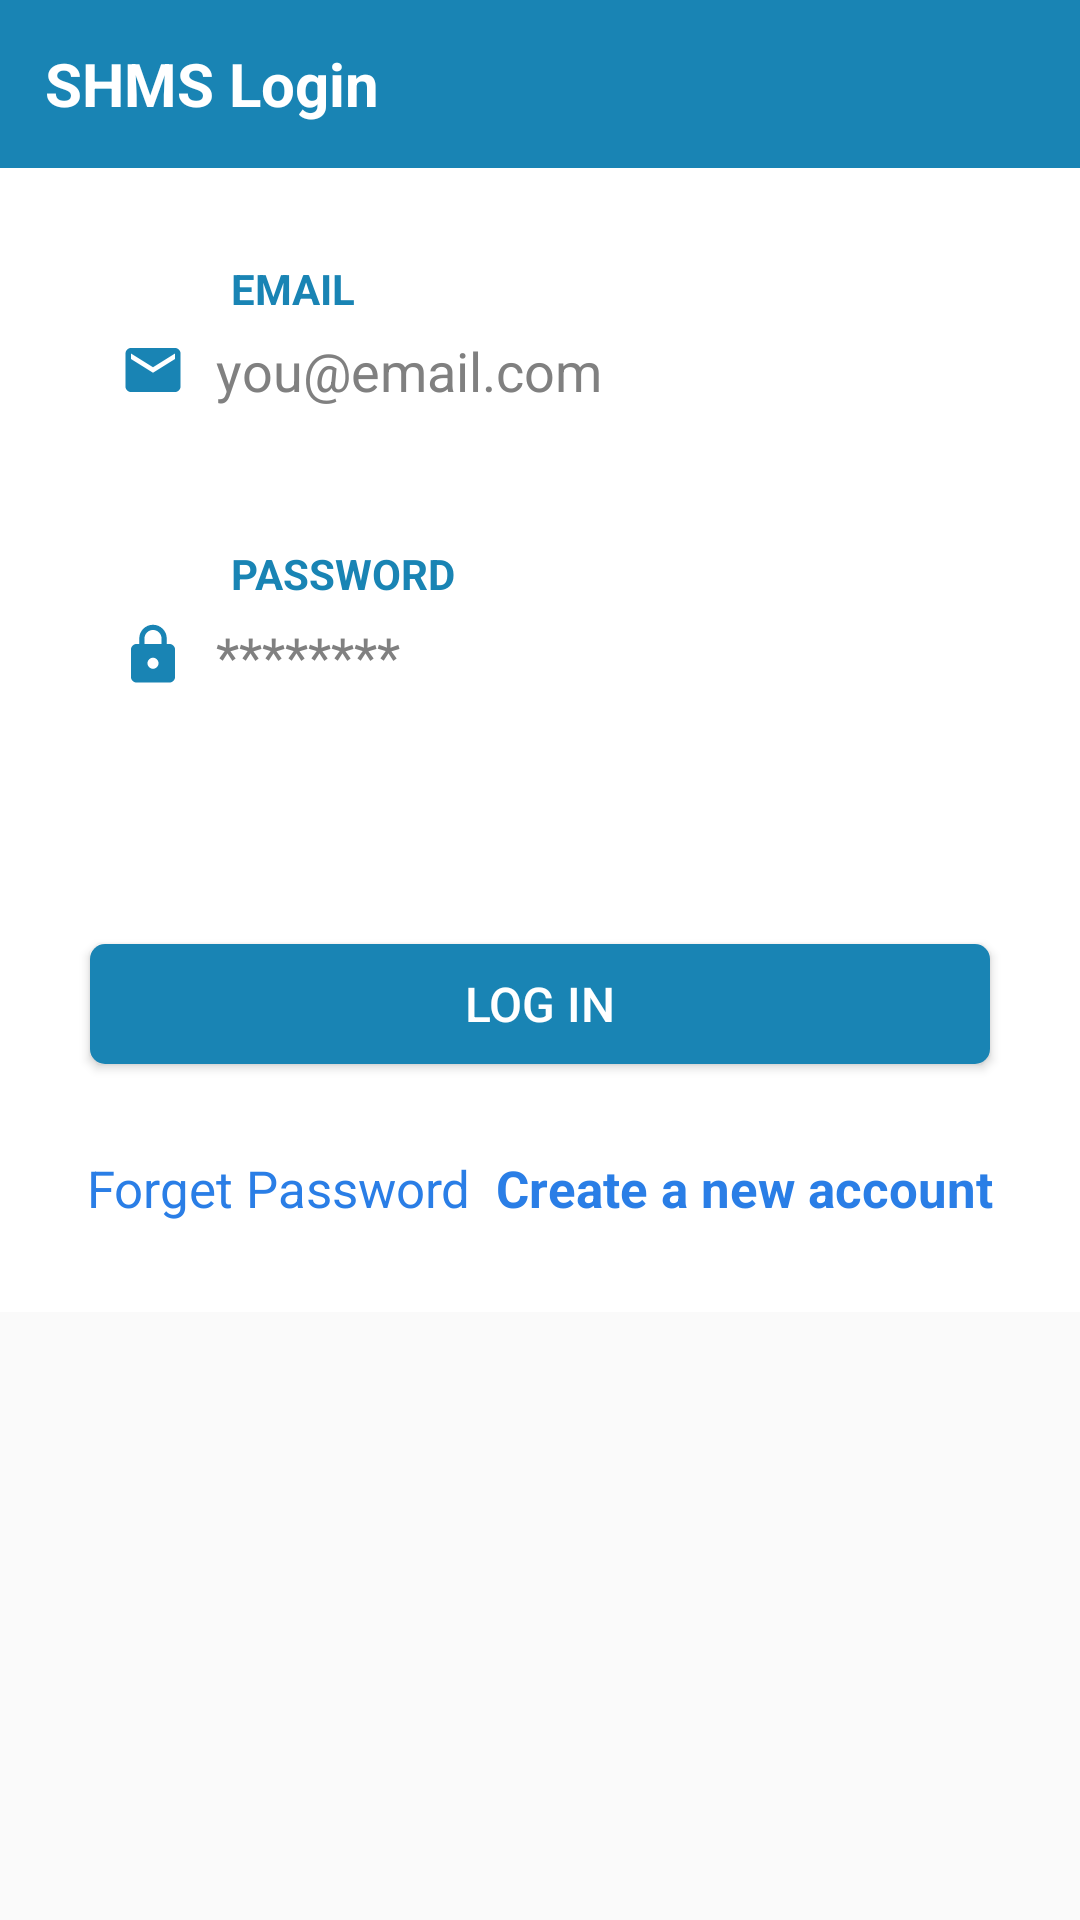

Screen size 1080px×1920px. Icon name, then its center in pixels as (x=x, y=y):
lock: (x=153, y=653)
